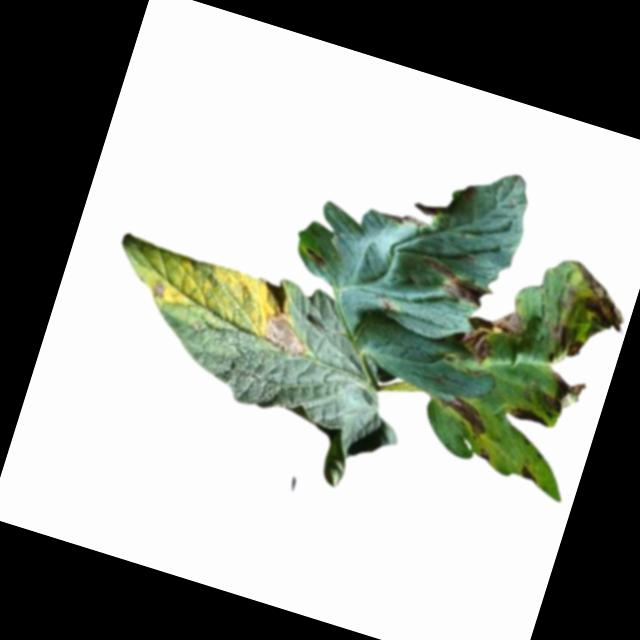Early_blight: (558, 258, 640, 343), (457, 299, 528, 375), (417, 256, 493, 310), (256, 310, 312, 361), (435, 394, 493, 439), (538, 318, 587, 364), (543, 372, 588, 422), (506, 403, 552, 433), (302, 246, 330, 271), (515, 463, 539, 487), (147, 279, 170, 302), (475, 448, 491, 464)
